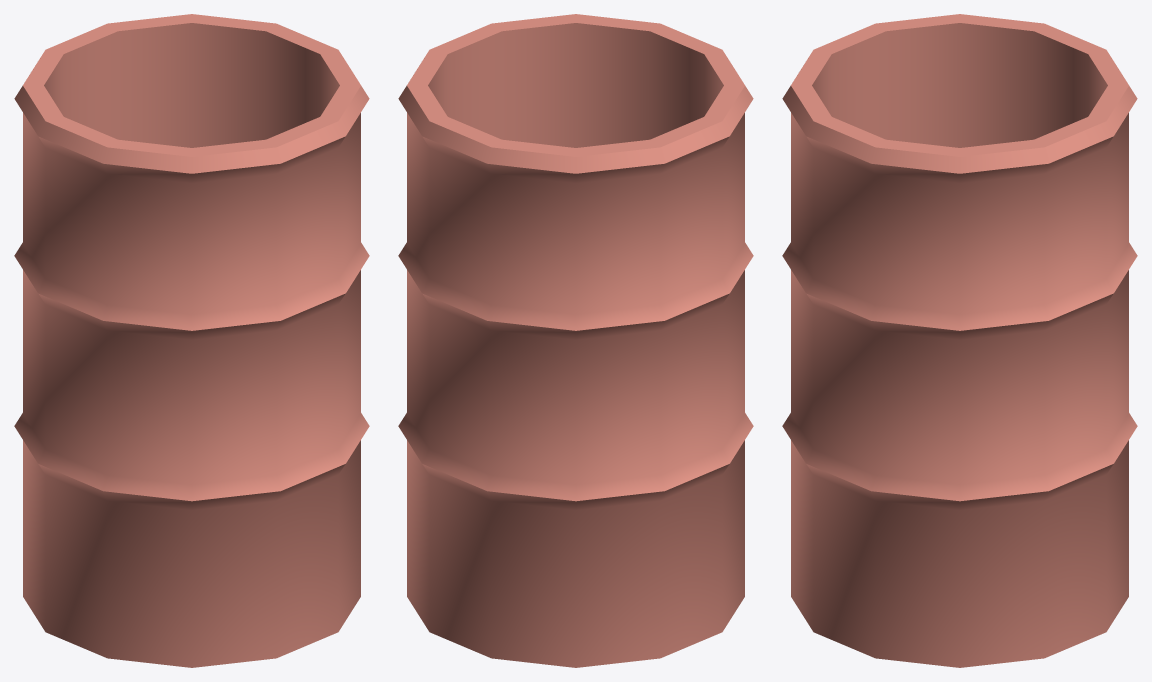
File: barrel.fbx
3 renders of one model, left to right at view 1: azimuth 30°, elevation 25°; view 2: azimuth 150°, elevation 25°; view 3: azimuth 270°, elevation 25°, orthographic.
Visible parts, largest first — view 1: Barrel; view 2: Barrel; view 3: Barrel.
Boxes of the visible parts, x1=… form: Barrel: x1=14, y1=14, x2=369, y2=667; Barrel: x1=398, y1=14, x2=753, y2=667; Barrel: x1=782, y1=14, x2=1137, y2=667.
Size of the model in its own units: 12.61 by 20 by 12.61.
